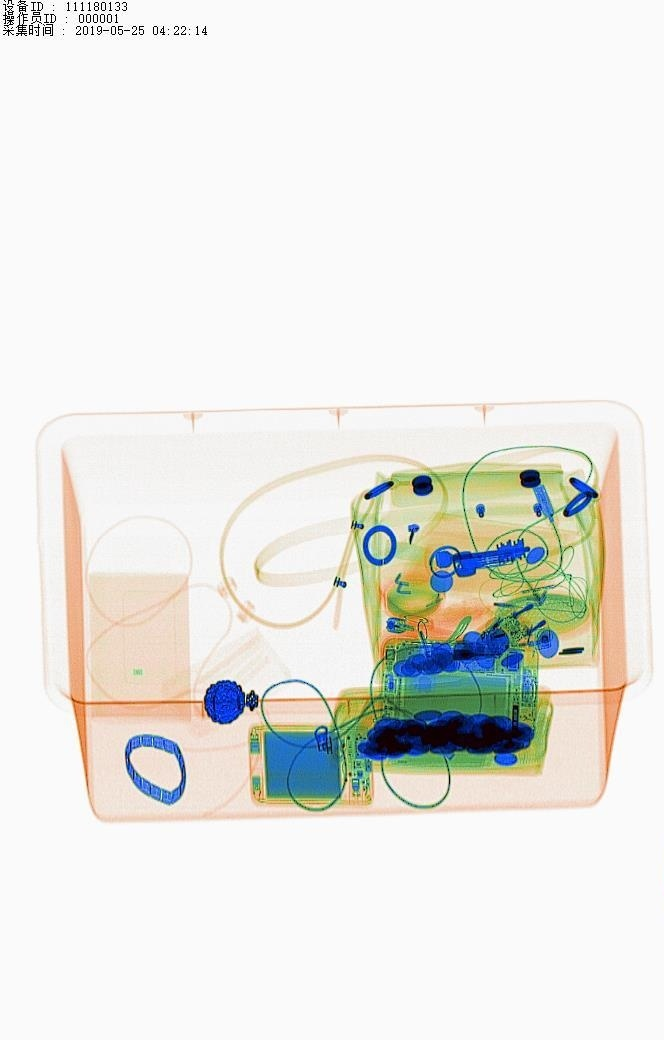NonmetallicFire: (371, 605, 465, 645)
